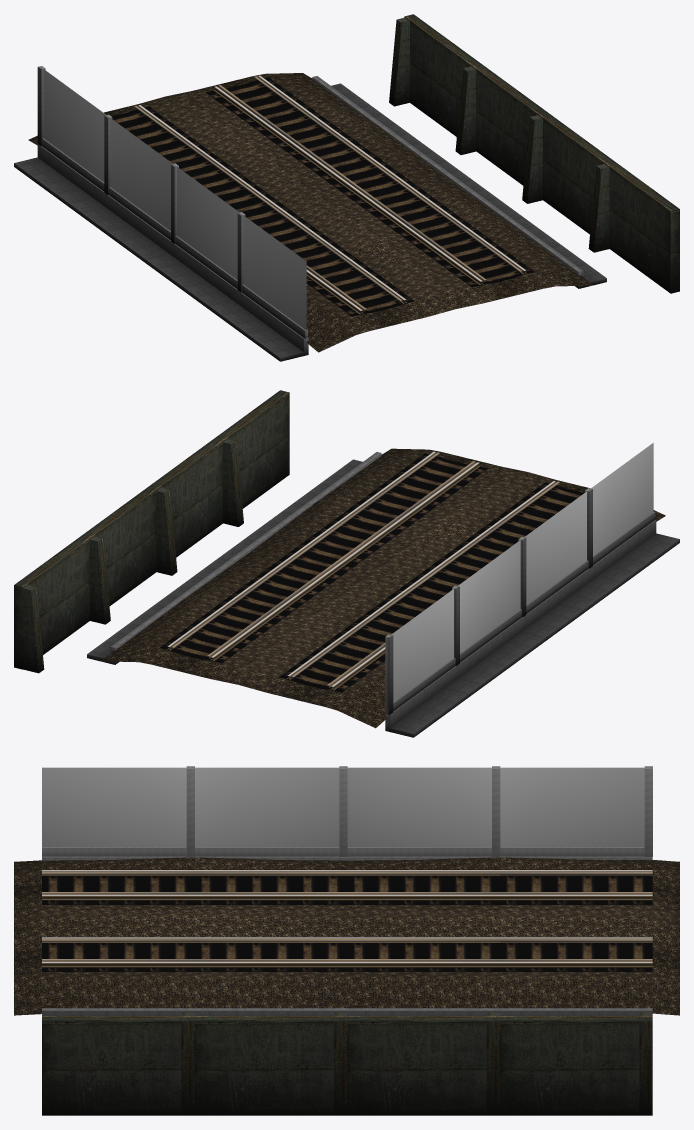
The model's file is KIN_2RAIL_50_KAWACHI.glb.
3 renders of one model, top to bottom at view 1: azimuth 30°, elevation 25°; view 2: azimuth 150°, elevation 25°; view 3: azimuth 270°, elevation 25°, orthographic. The views are drawn at different scales.
Parts seen in each view (by area): view 1: Jari_All1, bone_1, bone_3, bone_0, bone_2, R000_RG_L1, R000_RG_R1; view 2: Jari_All1, bone_0, bone_2, bone_3, bone_1, R000_RG_L1, R000_RG_R1; view 3: Jari_All1, R000_RG_R1, R000_RG_L1, bone_3, bone_1, bone_0, bone_2.
Boxes of the visible parts, <box> form: Jari_All1: <box>14,14,679,361</box>; bone_1: <box>104,66,476,194</box>; bone_3: <box>237,164,609,292</box>; bone_0: <box>37,17,409,146</box>; bone_2: <box>171,115,542,243</box>; R000_RG_L1: <box>134,76,522,301</box>; R000_RG_R1: <box>218,85,486,311</box>; Jari_All1: <box>14,390,679,737</box>; bone_0: <box>23,584,393,714</box>; bone_2: <box>156,487,526,617</box>; bone_3: <box>223,438,592,568</box>; bone_1: <box>90,535,459,665</box>; R000_RG_L1: <box>171,452,559,678</box>; R000_RG_R1: <box>207,461,475,688</box>; Jari_All1: <box>14,767,679,1115</box>; R000_RG_R1: <box>42,872,652,942</box>; R000_RG_L1: <box>42,892,652,961</box>; bone_3: <box>182,766,194,1015</box>; bone_1: <box>487,766,500,1015</box>; bone_0: <box>640,766,652,1015</box>; bone_2: <box>335,766,347,1015</box>.
Bounding box in the file's own units: 43.32 × 12.57 × 54.53.
18 materials, 17 textured.
